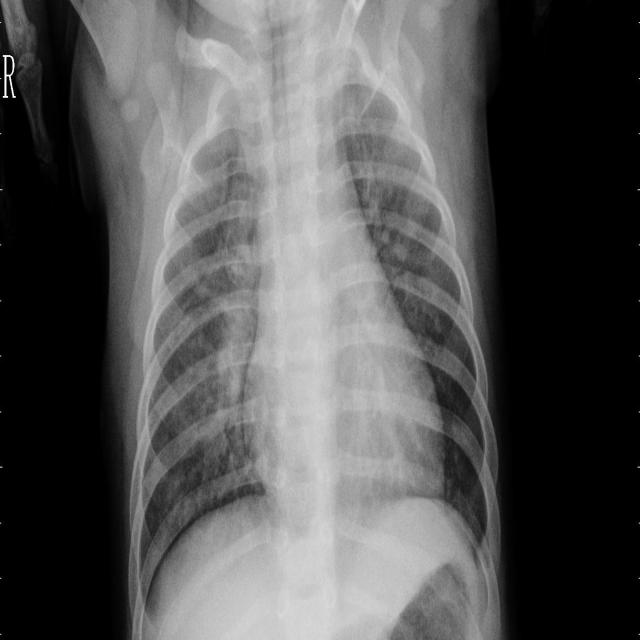low-pneumonia: (204, 217, 260, 467), (343, 88, 405, 242)
